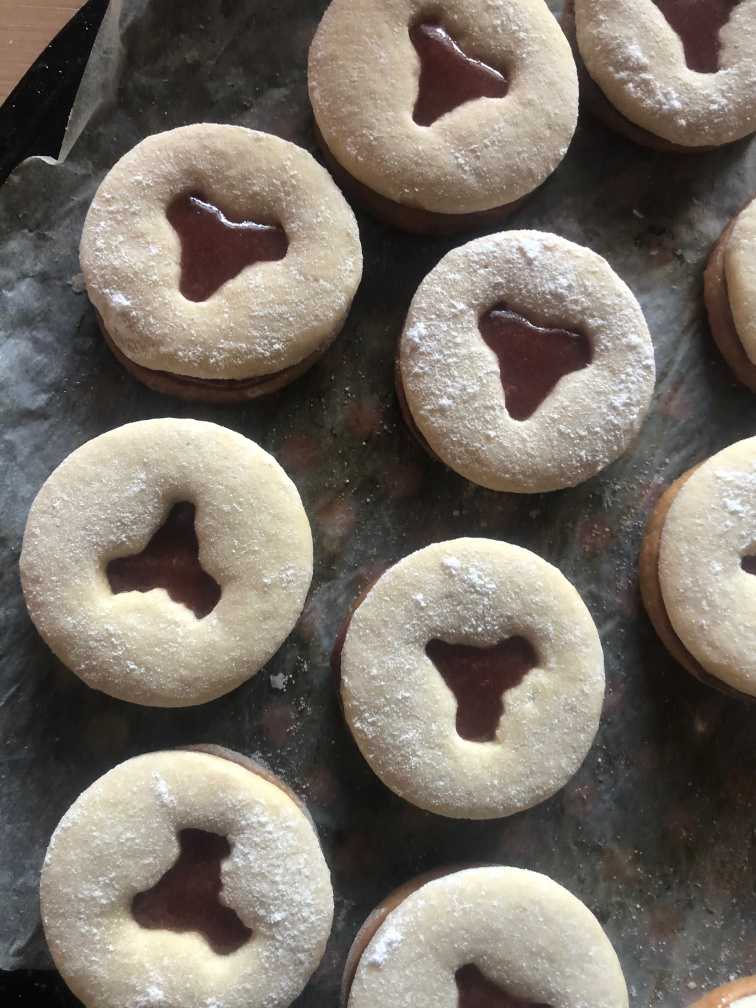christmas shortbread with jam: (16, 416, 316, 711), (35, 734, 336, 1007), (335, 533, 609, 831), (76, 118, 362, 389), (395, 218, 658, 495), (304, 1, 579, 216), (342, 856, 632, 1008), (646, 433, 756, 704), (575, 2, 755, 150), (700, 189, 756, 381)
